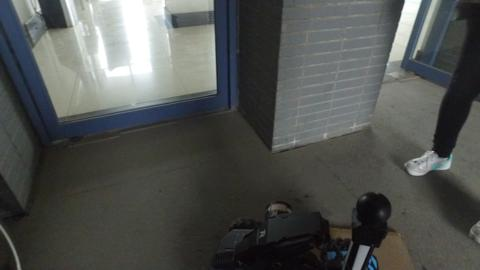chariot: (209, 191, 389, 269)
